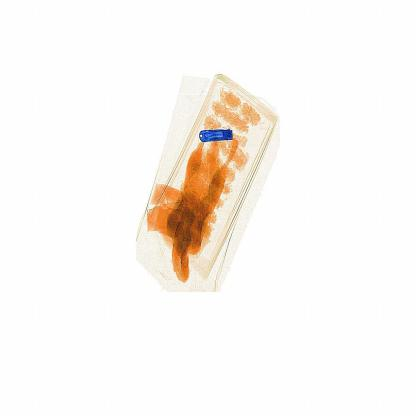knife: (194, 117, 243, 156)
